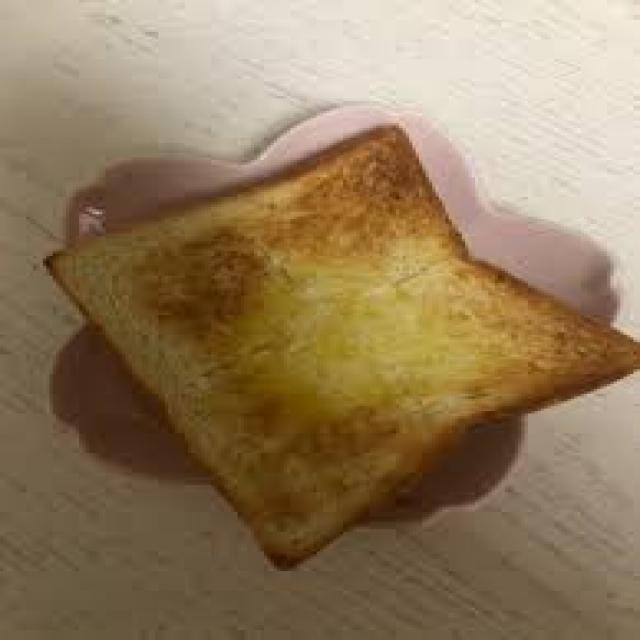organic waste: (36, 123, 637, 566)
